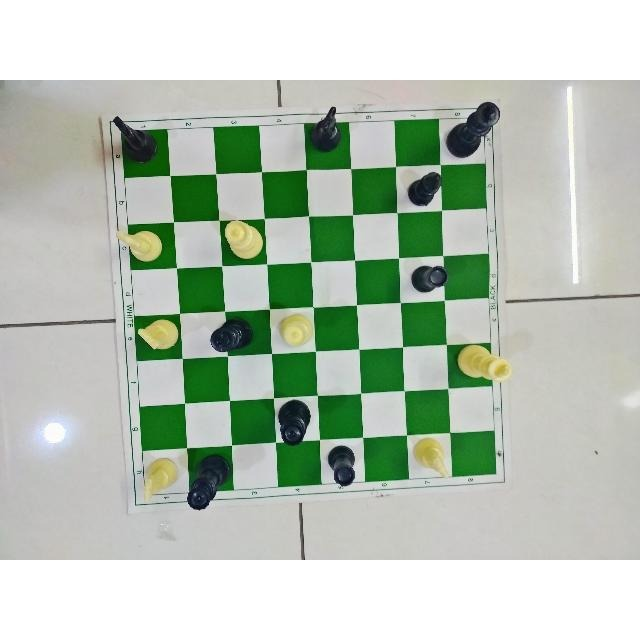black-bishop: (404, 167, 448, 213)
black-king: (441, 101, 507, 165), (206, 311, 258, 355)
black-knight: (109, 112, 163, 169), (305, 102, 345, 159)
black-queen: (185, 446, 232, 514), (274, 397, 316, 449)
black-rook: (322, 440, 363, 492), (406, 258, 450, 298)
white-king: (450, 341, 516, 391)
white-knight: (408, 426, 454, 488), (139, 451, 181, 513), (134, 314, 184, 360), (114, 227, 168, 266)
white-queen: (220, 215, 267, 264), (276, 305, 314, 355)
